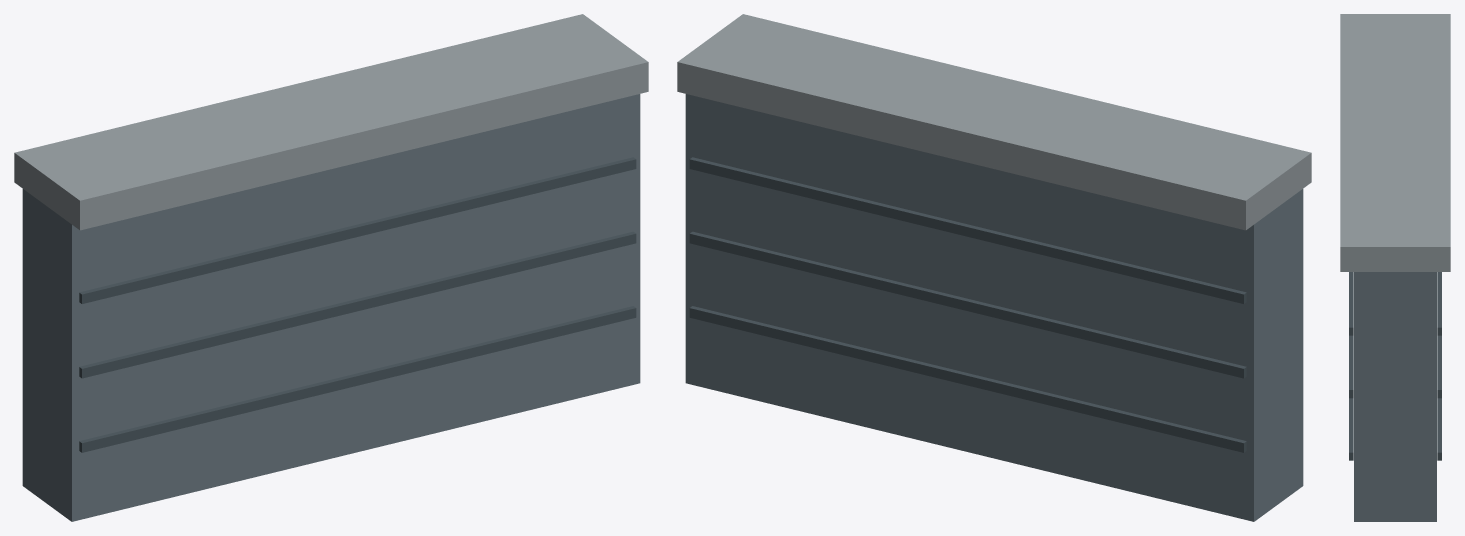
The model's file is Blockland_RetainingWallStraight_Standard.glb.
3 views of the same model, side by side, from view 1: azimuth 30°, elevation 25°; view 2: azimuth 150°, elevation 25°; view 3: azimuth 270°, elevation 25° (orthographic). The views are drawn at different scales.
Visible parts, largest first — view 1: Blockland_RetainingWallStraight_Standard; view 2: Blockland_RetainingWallStraight_Standard; view 3: Blockland_RetainingWallStraight_Standard.
Part boxes in pixels (x1,y1,x2,y2): Blockland_RetainingWallStraight_Standard: (14, 14, 648, 521); Blockland_RetainingWallStraight_Standard: (677, 14, 1311, 521); Blockland_RetainingWallStraight_Standard: (1340, 14, 1450, 521).
Size of the model in its own units: 4 by 2.2 by 0.8.
